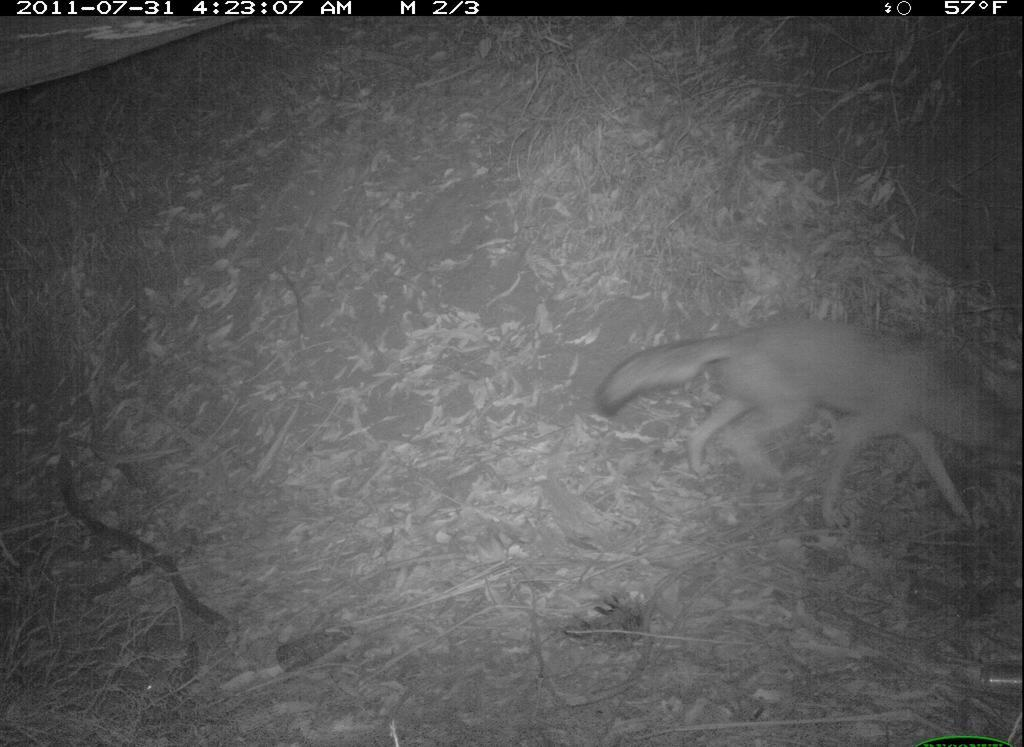coyote: (605, 312, 1022, 559)
